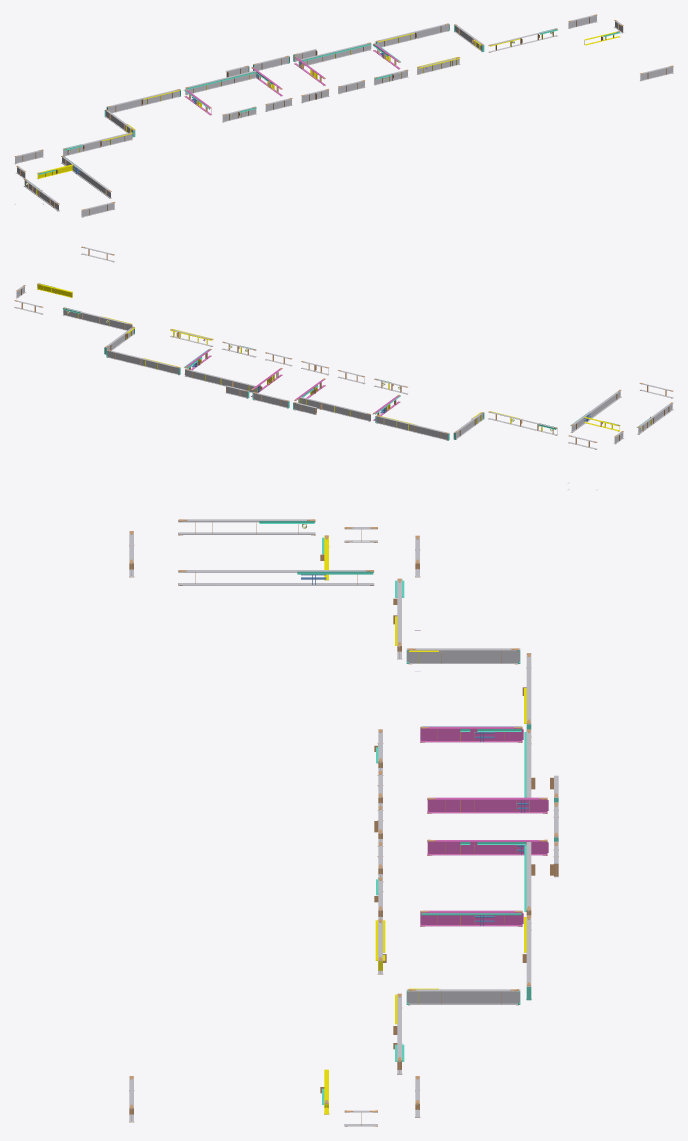
The picture shows the model from 3 angles, top to bottom: view 1: azimuth 30°, elevation 25°; view 2: azimuth 150°, elevation 25°; view 3: azimuth 270°, elevation 25°; orthographic projection. The views are drawn at different scales.
Parts seen in each view (by area): view 1: 18-6GL[1WbTrB005VKZ4sCZ0qD3Ks], 18-6GL[1WbTrB005V2Z4sCZ0qD3Ks], 18-6GL[1WbTrB005UzZ4sCZ0qD3Ks], 18-6GL[1WbTrB005V5Z4sCZ0qD3Ks], 18-6GL[1WbTrB005VIZ4sCZ0qD3Ks], 18-6GL[1WbTrB005VkZ4sCZ0qD3Ks], 18-6GL[1WbTrB005VgZ4sCZ0qD3Ks]; view 2: 18-6GL[1WbTrB005VKZ4sCZ0qD3Ks], 18-6GL[1WbTrB005V2Z4sCZ0qD3Ks], 18-6GL[1WbTrB005V5Z4sCZ0qD3Ks], 18-6GL[1WbTrB005VUZ4sCZ0qD3Ks], 18-6GL[1WbTrB005VIZ4sCZ0qD3Ks], 18-6GL[1WbTrB005VkZ4sCZ0qD3Ks]; view 3: 18-6GL[1WbTrB005V7Z4sCZ0qD3Ks], 18-6GL[1WbTrB005VRZ4sCZ0qD3Ks], 18-6GL[1WbTrB005U$Z4sCZ0qD3Ks], 18-6GL[1WbTrB005VGZ4sCZ0qD3Ks], 18-6GL[1WbTrB005VNZ4sCZ0qD3Ks], 18-6GL[1WbTrB005VPZ4sCZ0qD3Ks], 18-6GL[1WbTrB005VkZ4sCZ0qD3Ks].
Boxes of the visible parts, x1,y1,x2,y2 form: 18-6GL[1WbTrB005VKZ4sCZ0qD3Ks]: [376, 23, 449, 47]; 18-6GL[1WbTrB005V2Z4sCZ0qD3Ks]: [107, 89, 180, 113]; 18-6GL[1WbTrB005UzZ4sCZ0qD3Ks]: [63, 133, 132, 156]; 18-6GL[1WbTrB005V5Z4sCZ0qD3Ks]: [185, 70, 255, 94]; 18-6GL[1WbTrB005VIZ4sCZ0qD3Ks]: [300, 43, 371, 66]; 18-6GL[1WbTrB005VkZ4sCZ0qD3Ks]: [61, 156, 111, 198]; 18-6GL[1WbTrB005VgZ4sCZ0qD3Ks]: [417, 57, 459, 74]; 18-6GL[1WbTrB005VKZ4sCZ0qD3Ks]: [107, 349, 180, 374]; 18-6GL[1WbTrB005V2Z4sCZ0qD3Ks]: [375, 415, 449, 440]; 18-6GL[1WbTrB005V5Z4sCZ0qD3Ks]: [300, 397, 370, 421]; 18-6GL[1WbTrB005VUZ4sCZ0qD3Ks]: [63, 308, 132, 330]; 18-6GL[1WbTrB005VIZ4sCZ0qD3Ks]: [185, 369, 255, 392]; 18-6GL[1WbTrB005VkZ4sCZ0qD3Ks]: [570, 390, 621, 432]; 18-6GL[1WbTrB005V7Z4sCZ0qD3Ks]: [427, 797, 548, 813]; 18-6GL[1WbTrB005VRZ4sCZ0qD3Ks]: [406, 989, 520, 1004]; 18-6GL[1WbTrB005U$Z4sCZ0qD3Ks]: [406, 648, 520, 663]; 18-6GL[1WbTrB005VGZ4sCZ0qD3Ks]: [427, 840, 548, 855]; 18-6GL[1WbTrB005VNZ4sCZ0qD3Ks]: [420, 910, 523, 926]; 18-6GL[1WbTrB005VPZ4sCZ0qD3Ks]: [420, 726, 523, 742]; 18-6GL[1WbTrB005VkZ4sCZ0qD3Ks]: [178, 570, 374, 585].
Bounding box in the file's own units: 39.12 × 3.34 × 11.99.
